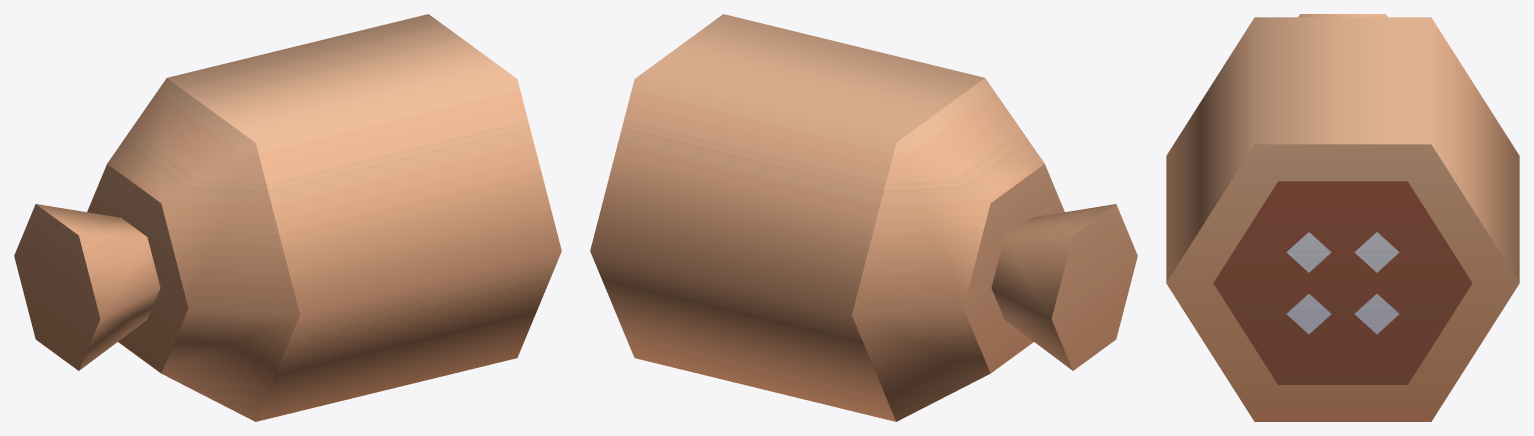
Rendered from sausage-half.glb.
3 renders of one model, left to right at view 1: azimuth 30°, elevation 25°; view 2: azimuth 150°, elevation 25°; view 3: azimuth 270°, elevation 25°, orthographic.
Parts seen in each view (by area): view 1: sausage-half; view 2: sausage-half; view 3: sausage-half.
Part boxes in pixels (x1,y1,x2,y2): sausage-half: [14, 14, 561, 421]; sausage-half: [590, 14, 1137, 421]; sausage-half: [1166, 14, 1519, 421].
Bounding box in the file's own units: 0.1853 × 0.1189 × 0.1373.
Materials: 1 (1 with a texture image).
